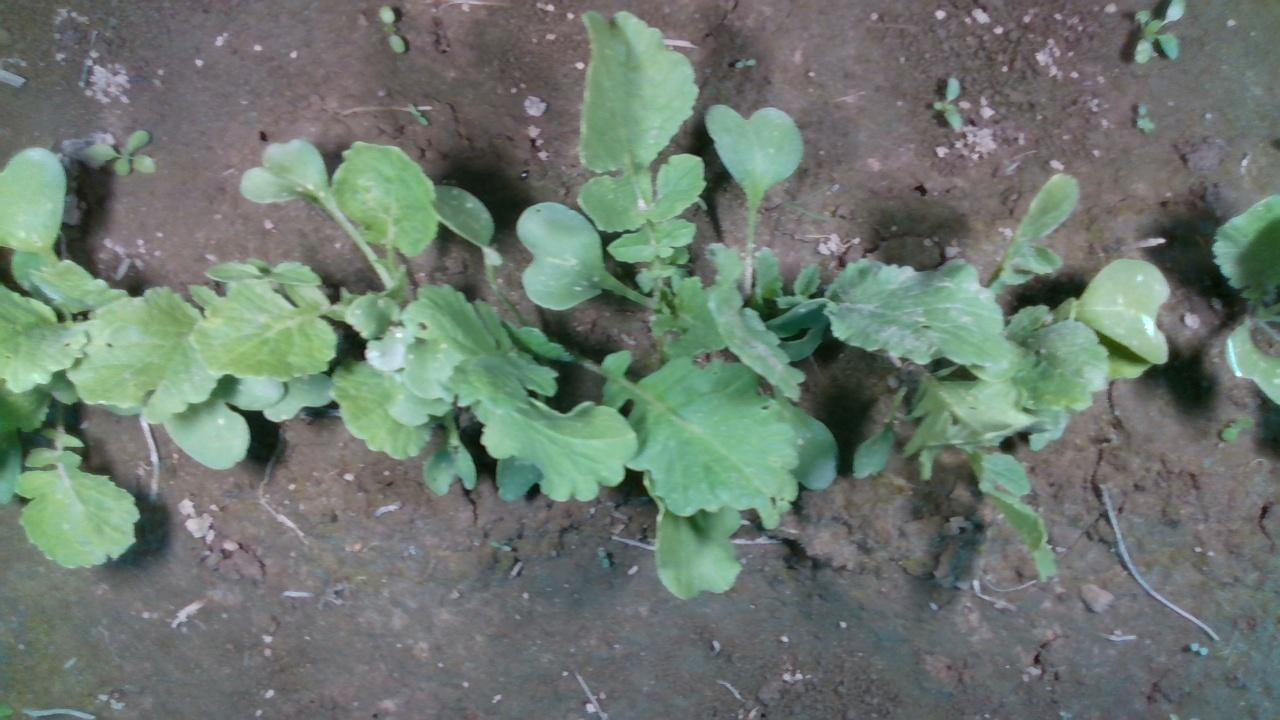weed: (83, 126, 157, 176), (930, 74, 966, 136), (377, 4, 406, 52), (1219, 413, 1254, 442), (408, 101, 427, 125)
